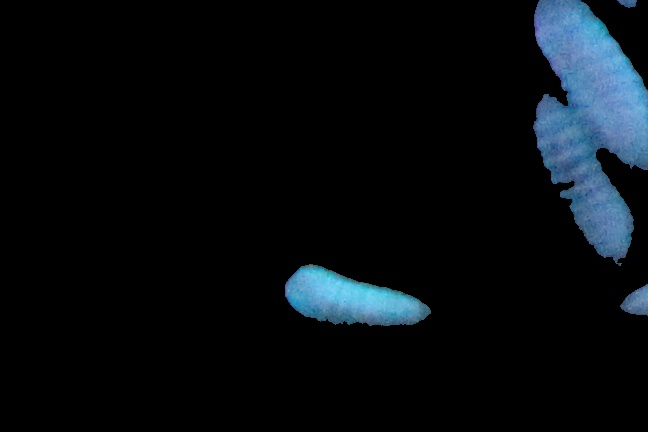larvae: (530, 2, 648, 171), (531, 97, 637, 260), (281, 261, 434, 337)
